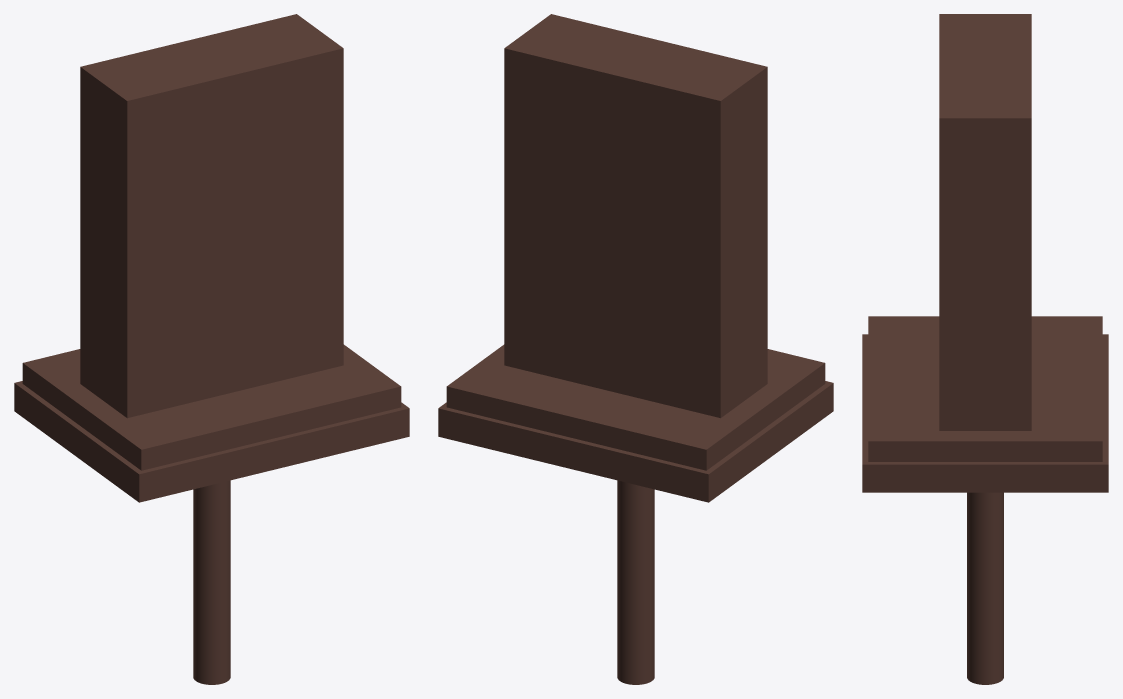
3 renders of one model, left to right at view 1: azimuth 30°, elevation 25°; view 2: azimuth 150°, elevation 25°; view 3: azimuth 270°, elevation 25°, orthographic.
Visible parts, largest first — view 1: backrest, seat, base_frame, leg_1; view 2: backrest, seat, base_frame, leg_1; view 3: backrest, seat, base_frame, leg_1.
Boxes of the visible parts, <box> form: backrest: <box>80,14,343,418</box>; seat: <box>22,344,401,470</box>; base_frame: <box>14,381,409,502</box>; leg_1: <box>193,480,230,684</box>; backrest: <box>504,14,767,418</box>; seat: <box>446,344,825,470</box>; base_frame: <box>438,381,833,502</box>; leg_1: <box>617,480,654,684</box>; backrest: <box>939,14,1031,430</box>; seat: <box>868,316,1102,461</box>; base_frame: <box>862,334,1108,492</box>; leg_1: <box>967,492,1003,684</box>.
Size of the model in its own units: 0.5 by 1.09 by 0.4.
